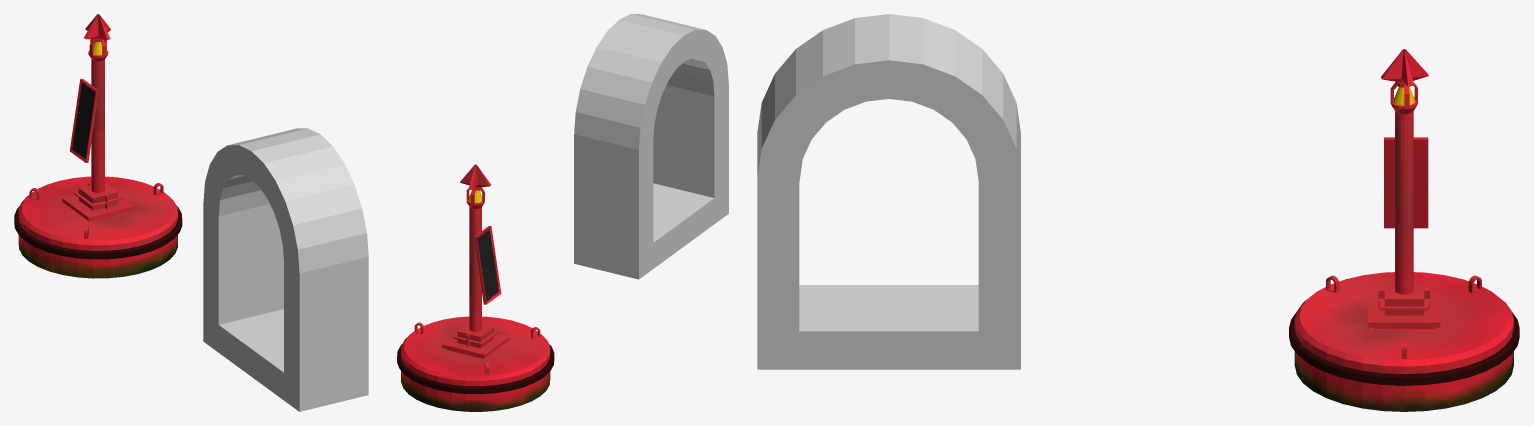
File: Boya2.fbx
3 renders of one model, left to right at view 1: azimuth 30°, elevation 25°; view 2: azimuth 150°, elevation 25°; view 3: azimuth 270°, elevation 25°, orthographic. The views are drawn at different scales.
Visible parts, largest first — view 1: Cube, Hebilla; view 2: Cube, Hebilla; view 3: Cube, Hebilla.
Part boxes in pixels (box(x1,y1,x2,y2)): Cube: box(203, 128, 368, 411); Hebilla: box(14, 14, 182, 278); Cube: box(574, 14, 728, 279); Hebilla: box(397, 164, 554, 411); Cube: box(757, 14, 1020, 369); Hebilla: box(1289, 49, 1519, 411).
Bounding box in the file's own units: 421 × 662 × 1392.
Materials: 1 (1 with a texture image).
